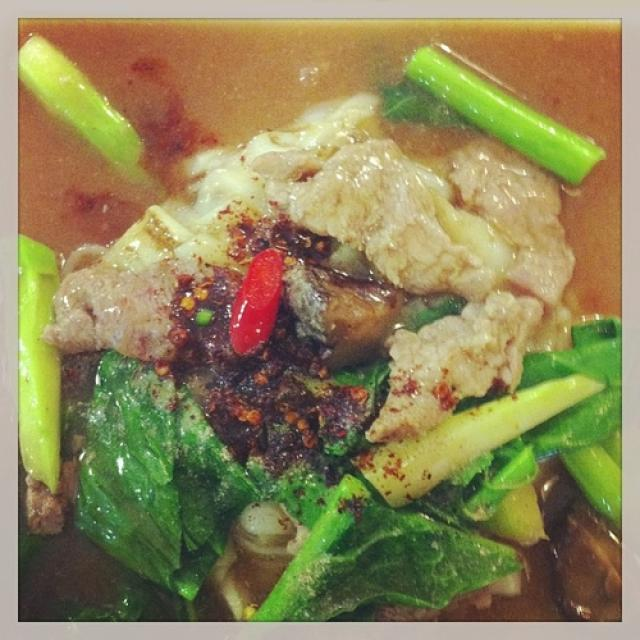面条主食: (33, 39, 603, 602)
